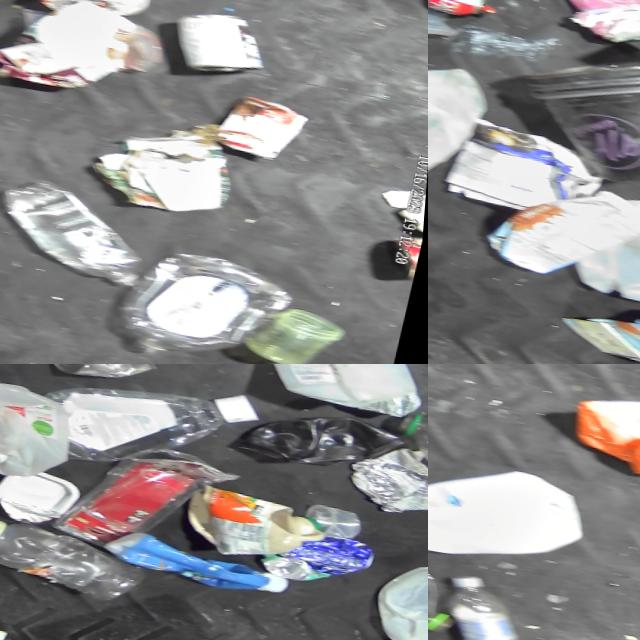can: (260, 523, 390, 593), (166, 4, 279, 81), (215, 91, 317, 164), (38, 364, 172, 389)
milk_jug: (428, 444, 603, 576), (0, 368, 94, 485), (428, 49, 501, 193), (570, 190, 640, 325), (262, 364, 428, 417), (371, 549, 428, 640)
plastic_bottle: (113, 240, 308, 364), (0, 173, 172, 292), (0, 512, 166, 608), (438, 570, 550, 640), (428, 518, 481, 639), (391, 398, 428, 487)
